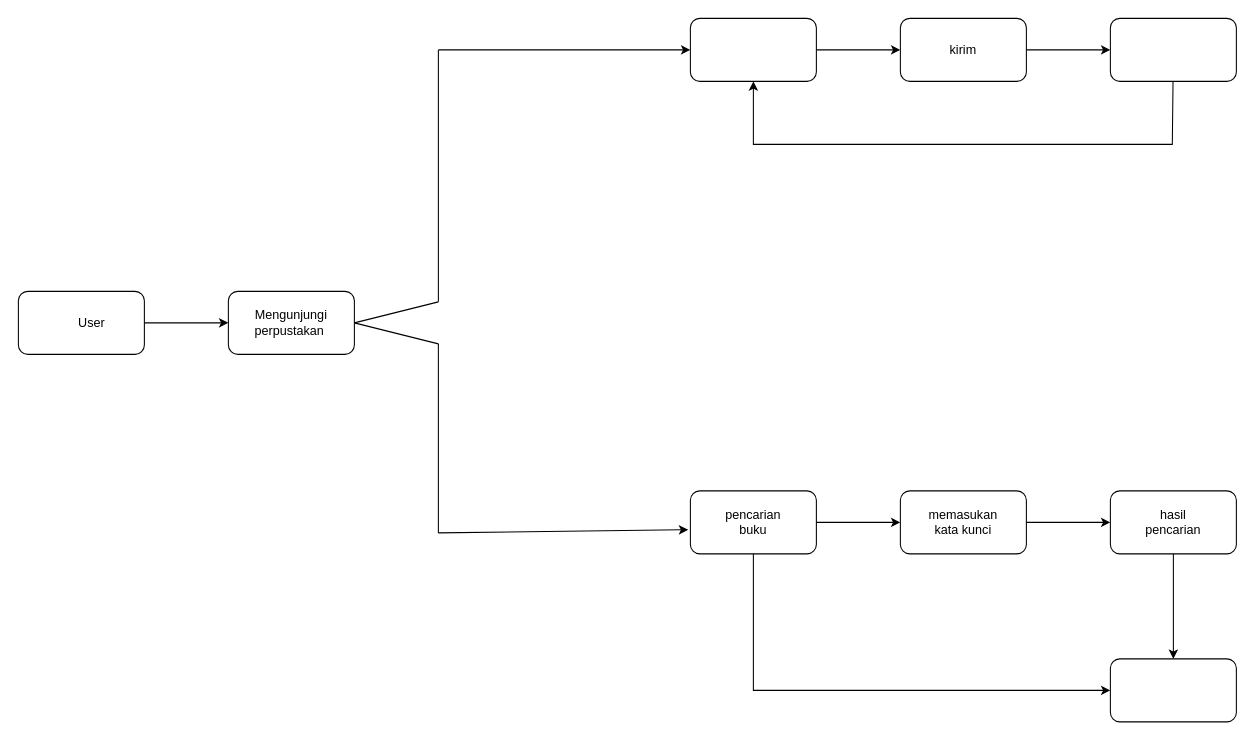
The diagram is 1255 pixels wide and 740 high, and some of its shapes have lost their labels. The box of each missing label's shape, as (x1, y1, x2, y2) in pixels:
Daftar pengunjung: (1109, 17, 1236, 81)
isi from pengunjung: (689, 17, 816, 81)
liat rincian buku: (1109, 658, 1236, 722)
